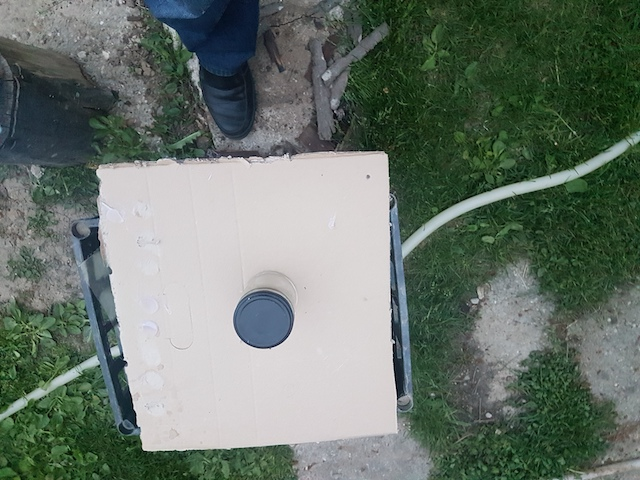recipient: (234, 291, 294, 350)
